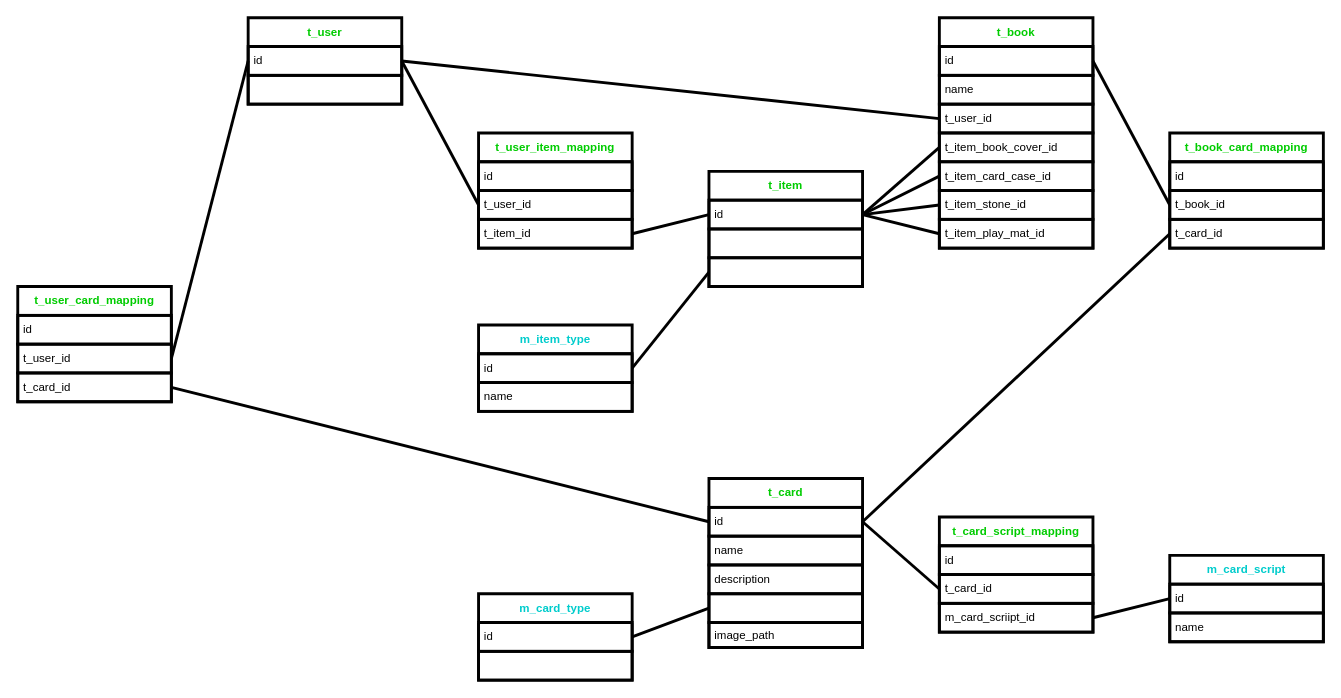
Some shapes in this 1341 by 698 pixel diagram are drawn without their labels. Each missing label, with the centre of its shape:
item_image_path: (x=785, y=243)
last_login_time: (x=324, y=89)
m_card_type_id: (x=785, y=608)
m_item_type_id: (x=785, y=272)
type_name: (x=555, y=665)
